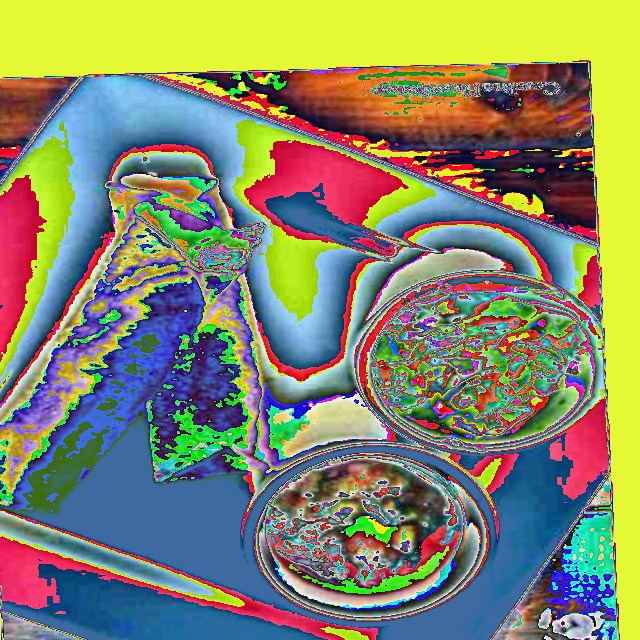background: (202, 143, 465, 597), (224, 168, 593, 452), (0, 168, 275, 515)
